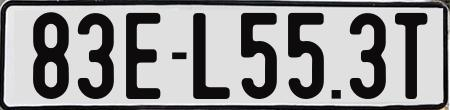3: (76, 12, 116, 104), (348, 10, 385, 102)
5: (238, 12, 274, 104), (288, 12, 325, 100)
8: (30, 10, 69, 99)
E: (126, 12, 165, 100)
L: (192, 11, 229, 98)
T: (392, 13, 429, 103)
